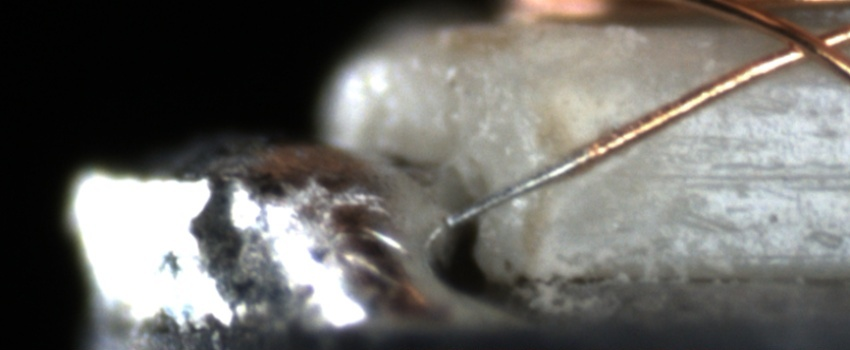CL: (763, 16, 844, 75)
DL: (619, 143, 850, 205)
TS: (449, 151, 584, 225)
TTCW: (443, 124, 630, 224)
